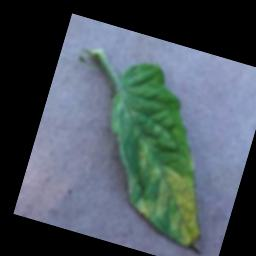Leaf_Mold: (114, 138, 222, 251)
